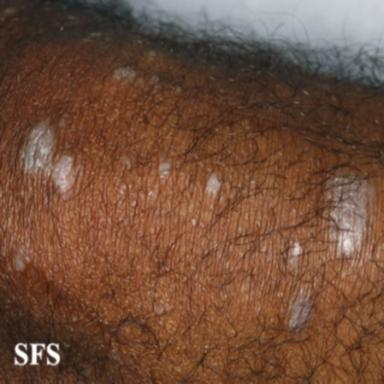lichen: (324, 177, 374, 257), (23, 123, 75, 193), (288, 287, 313, 329), (287, 241, 302, 269), (205, 173, 221, 197), (113, 66, 136, 81), (158, 157, 172, 179), (13, 246, 25, 271)
